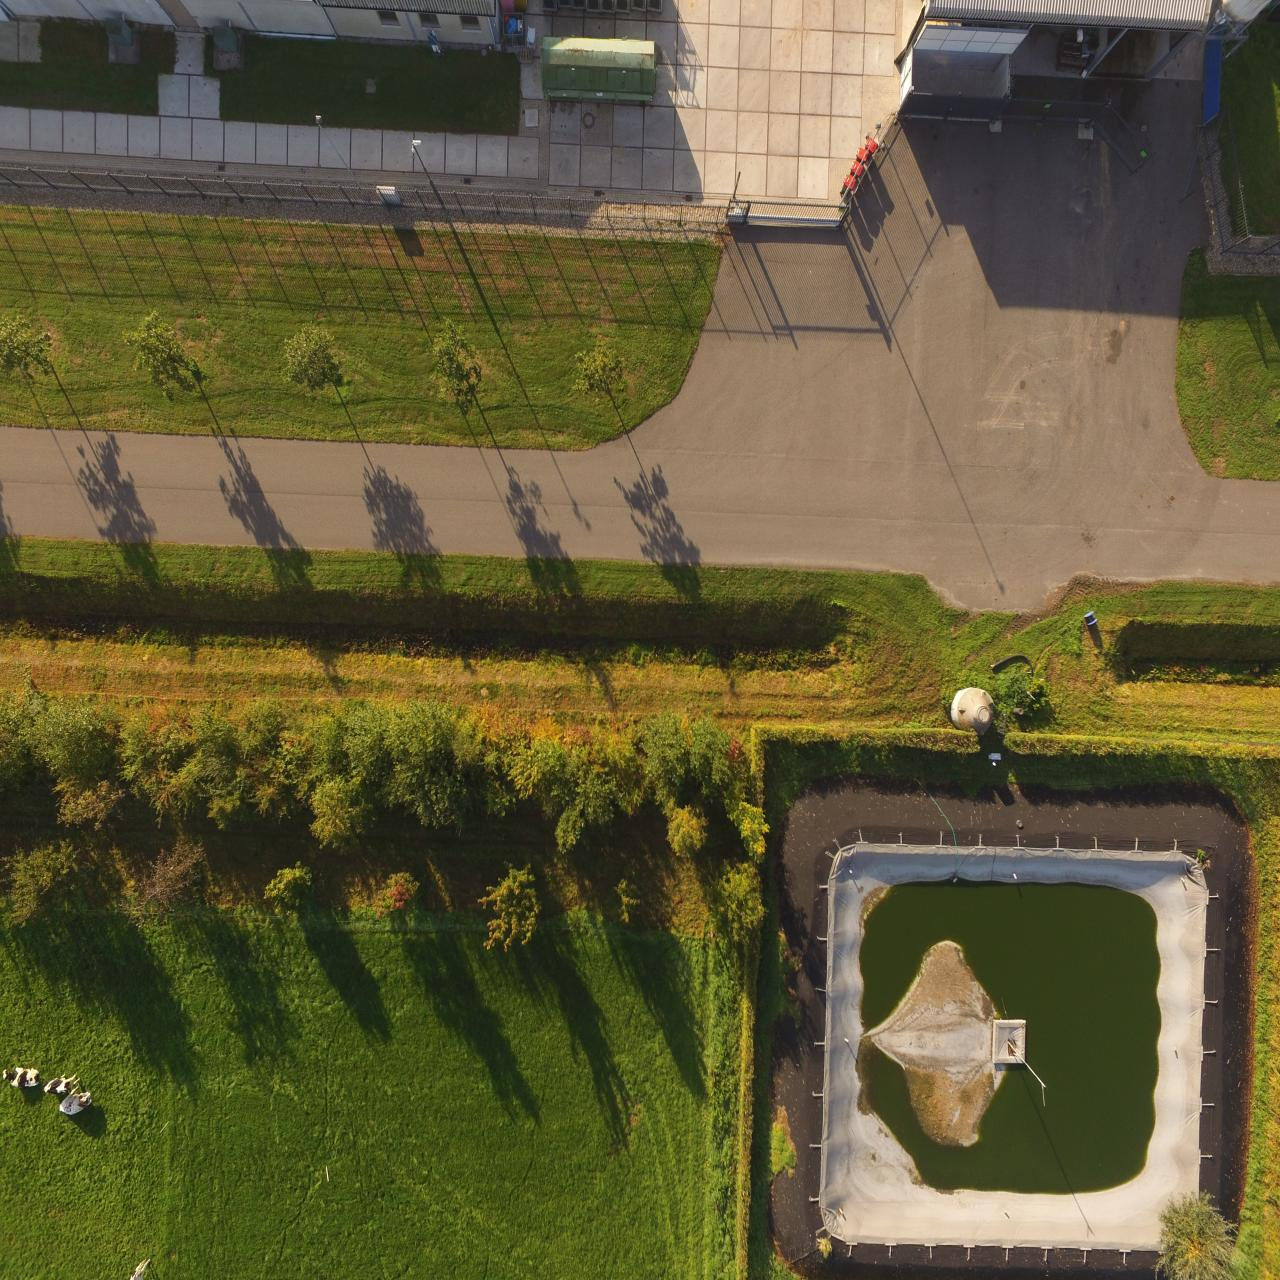cow: (56, 1083, 97, 1123), (1, 1066, 46, 1090), (44, 1074, 83, 1095)
